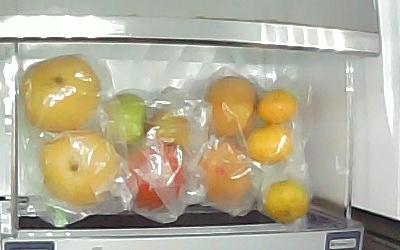peach_vinyl: (206, 73, 258, 141), (199, 143, 249, 205)
pear_vinyl: (22, 54, 100, 132), (41, 129, 118, 206)
tangerine_vinyl: (264, 178, 309, 224), (246, 124, 296, 164), (257, 89, 299, 126)
tomato_vinyl: (131, 142, 180, 209), (103, 92, 144, 148), (149, 108, 193, 152)
